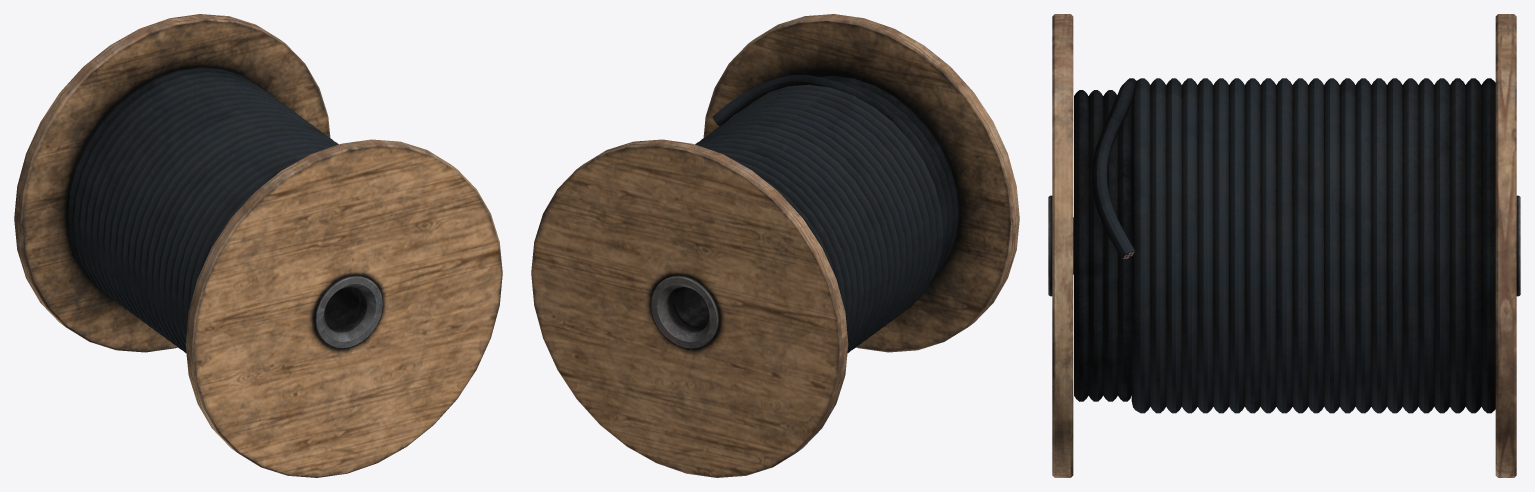
The model's file is wooden_cable_drum.glb.
The picture shows the model from 3 angles, left to right: view 1: azimuth 30°, elevation 25°; view 2: azimuth 150°, elevation 25°; view 3: azimuth 270°, elevation 25°; orthographic projection. The views are drawn at different scales.
Visible parts, largest first — view 1: Cylinder.237; view 2: Cylinder.237; view 3: Cylinder.237.
Boxes of the visible parts, x1=… form: Cylinder.237: x1=14, y1=14, x2=502, y2=477; Cylinder.237: x1=531, y1=14, x2=1019, y2=477; Cylinder.237: x1=1048, y1=14, x2=1520, y2=477.
Bounding box in the file's own units: 1.2 × 1.2 × 1.22.
1 material, 1 textured.
